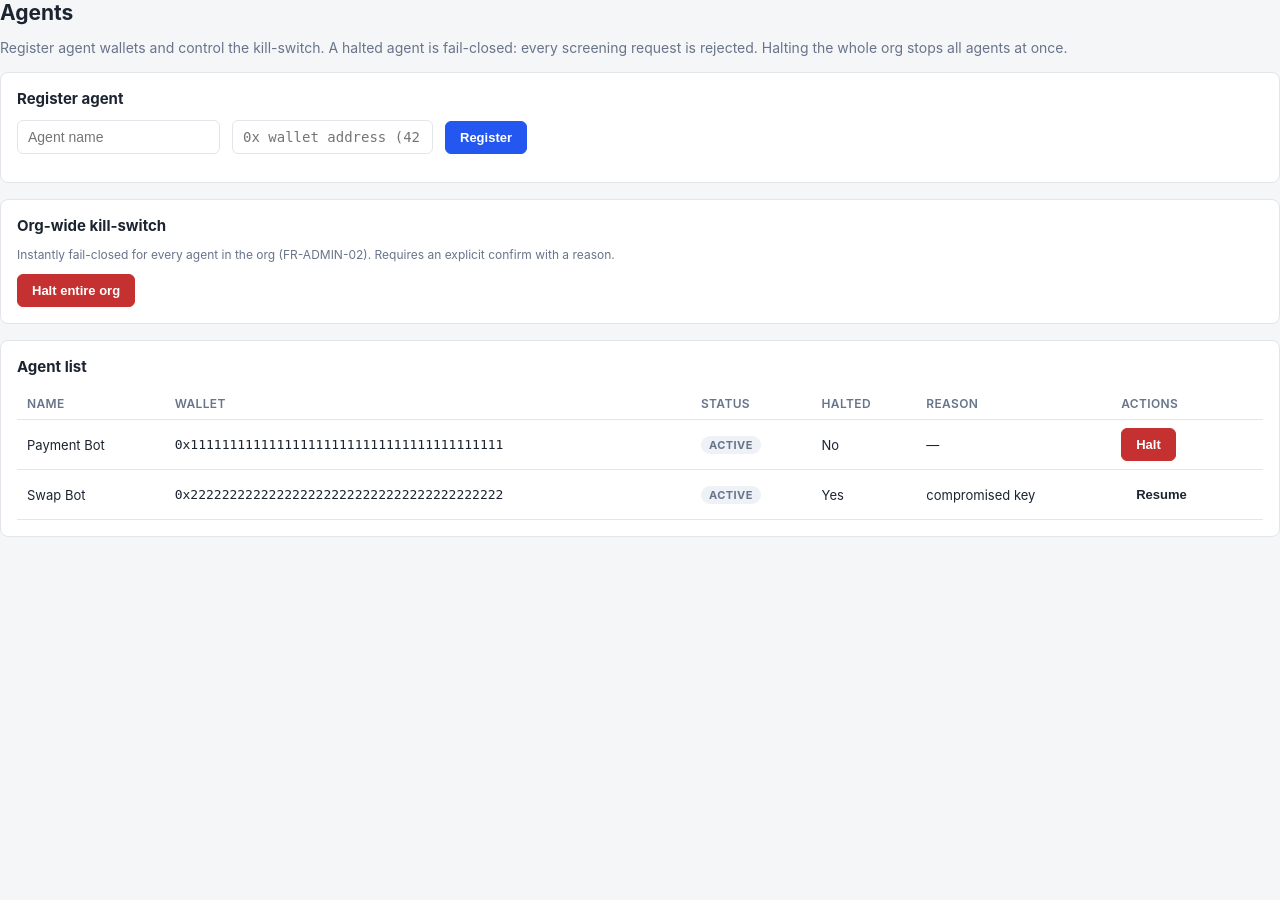
Test case: Agents page › opens halt confirmation modal
This screenshot has width=1280, height=900.
Check: the text "Payment Bot" is shown, box [17,420,165,470]
Click the button "Halt": coordinates (1148, 444) [1121,428,1176,461]
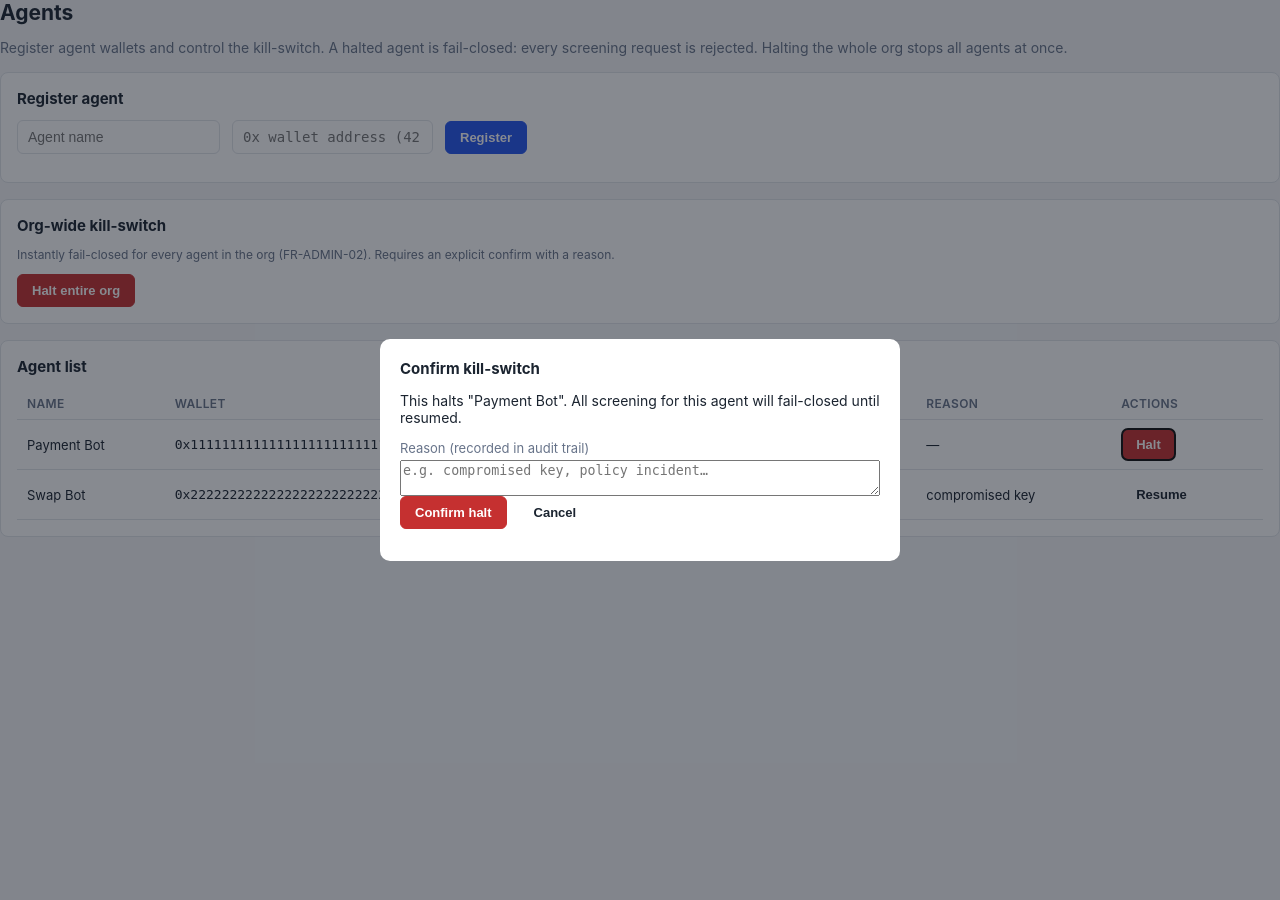
Check: the heading "Confirm kill-switch" is shown, box [400,359,540,378]
Check: the text "This halts \"Payment Bot\"" is shown, box [400,392,880,426]
